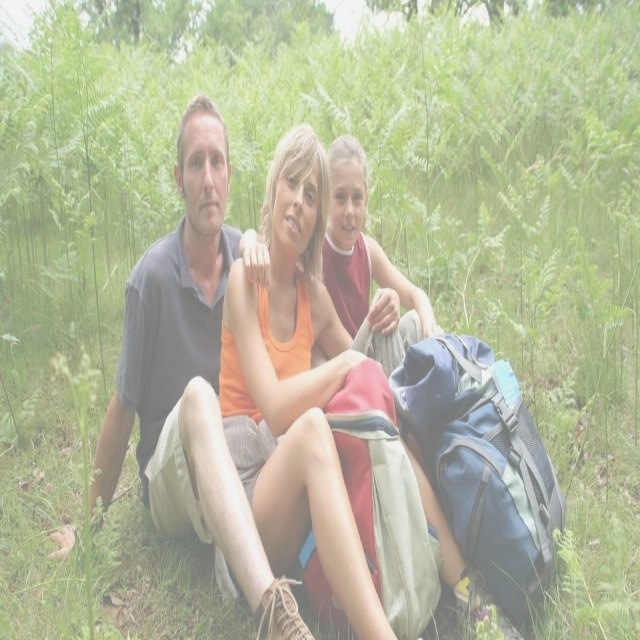pessoa: (211, 115, 531, 639), (47, 85, 316, 640), (238, 132, 446, 370)
